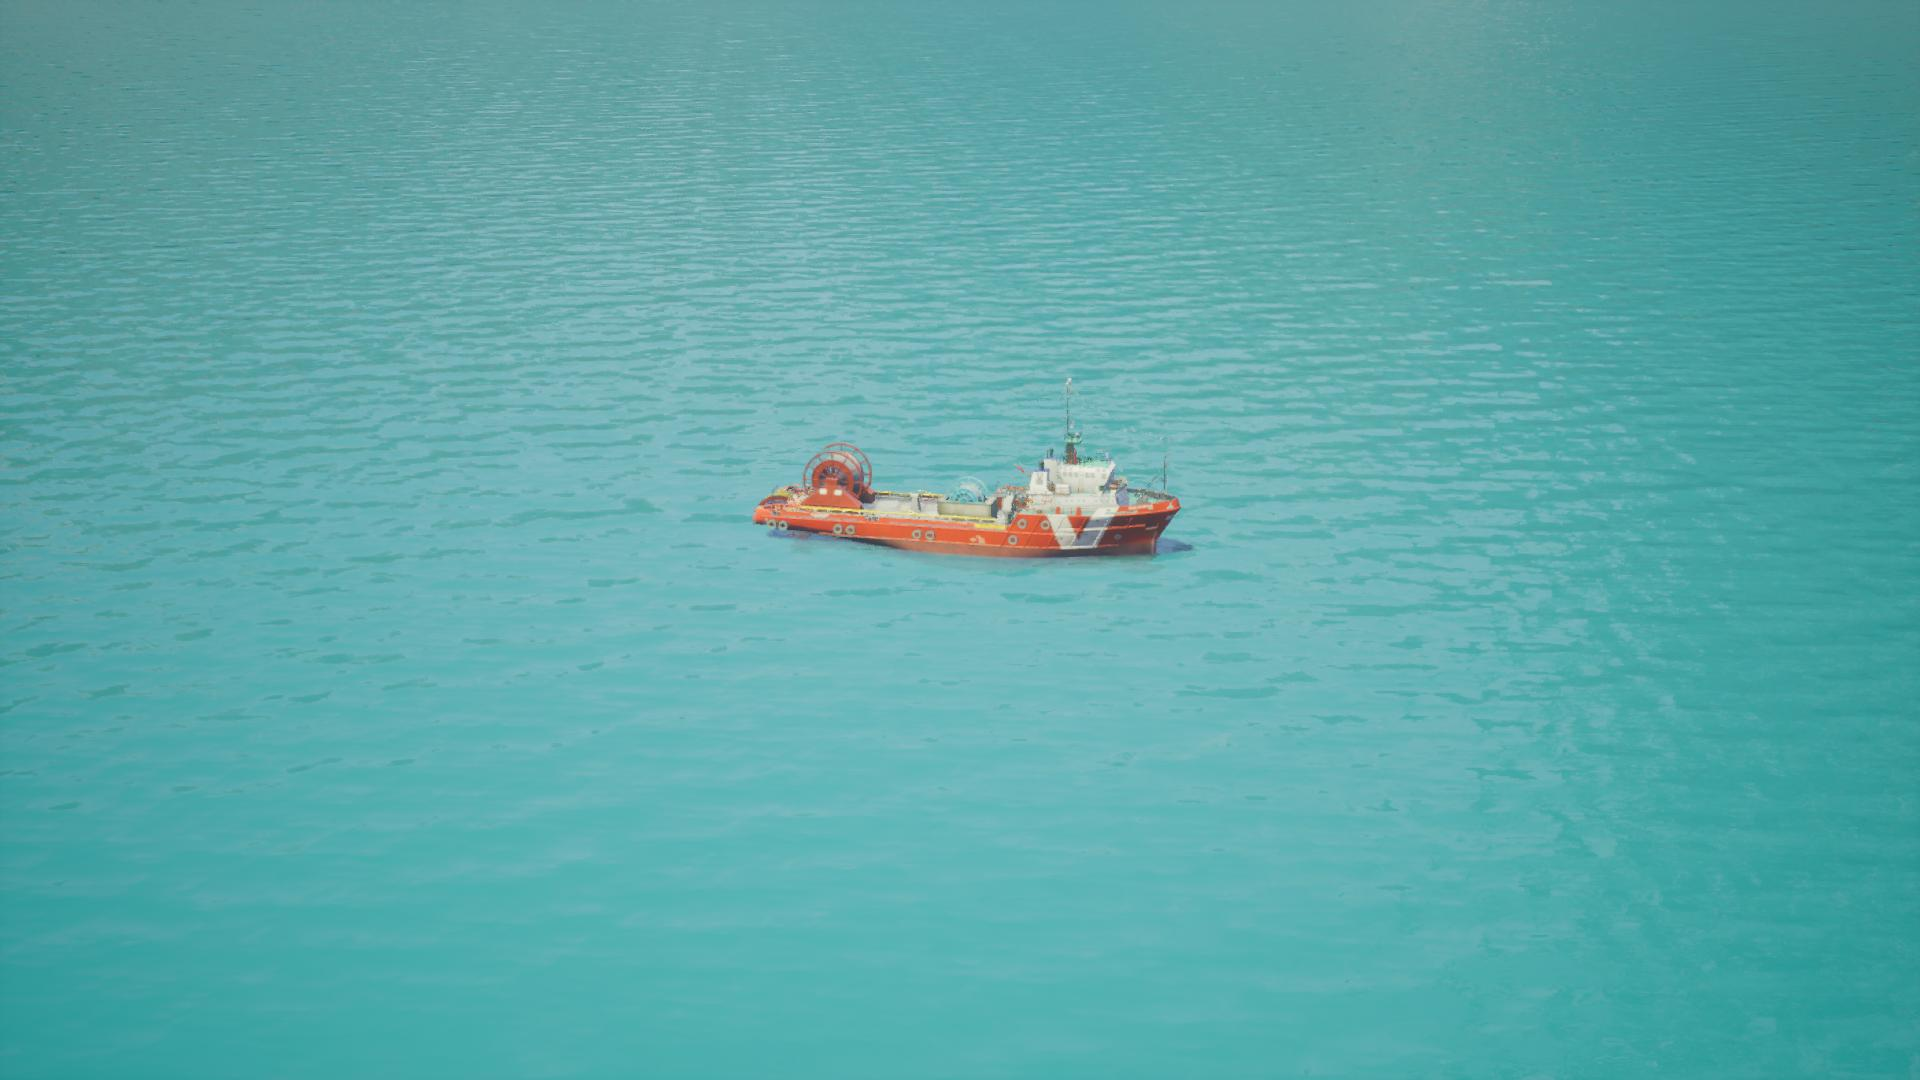Tug Boat: (750, 378, 1191, 567)
